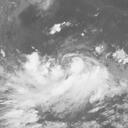cyclone: (28, 50, 110, 111)
